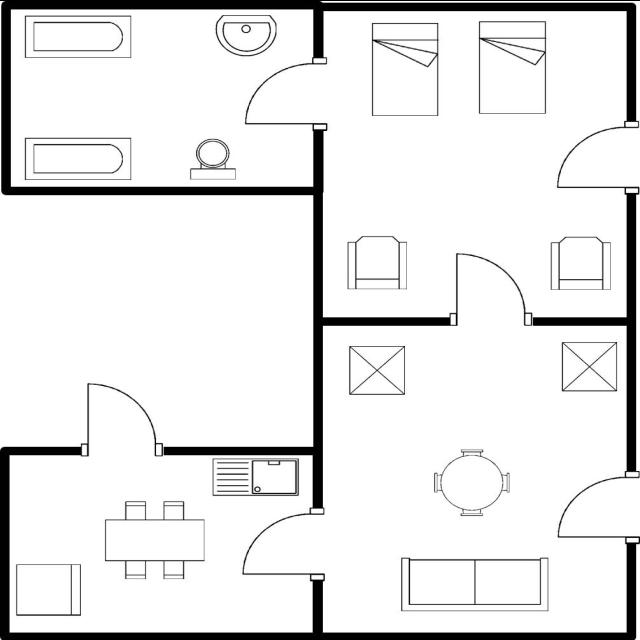armchair: (546, 232, 616, 296), (342, 232, 412, 294)
bed: (472, 17, 551, 118), (368, 19, 443, 121)
coffee_table: (343, 340, 409, 403), (554, 338, 622, 397)
dining_table: (100, 498, 210, 582)
large_sink: (182, 134, 243, 182)
large_sofa: (396, 552, 556, 616)
round_table: (430, 445, 514, 519)
sink: (208, 454, 304, 500)
small_sink: (210, 10, 280, 60)
small_sofa: (12, 560, 86, 618)
tub: (20, 11, 134, 63), (20, 133, 136, 183)
